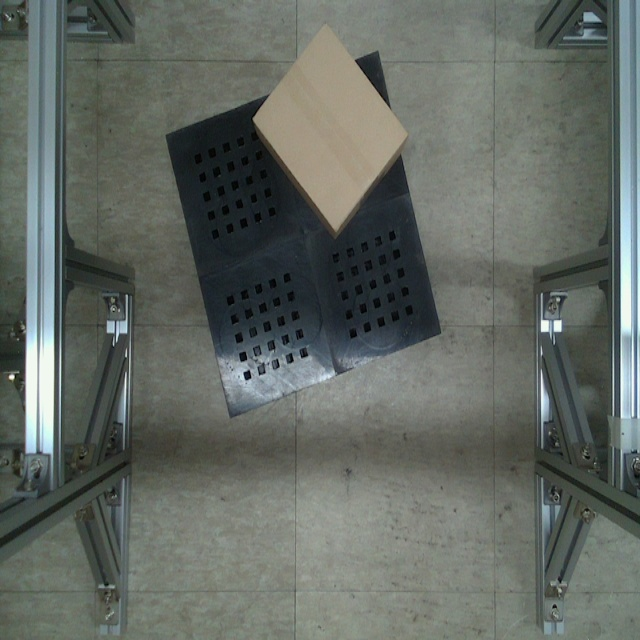box: (249, 15, 414, 241)
pallet: (161, 40, 449, 425)
